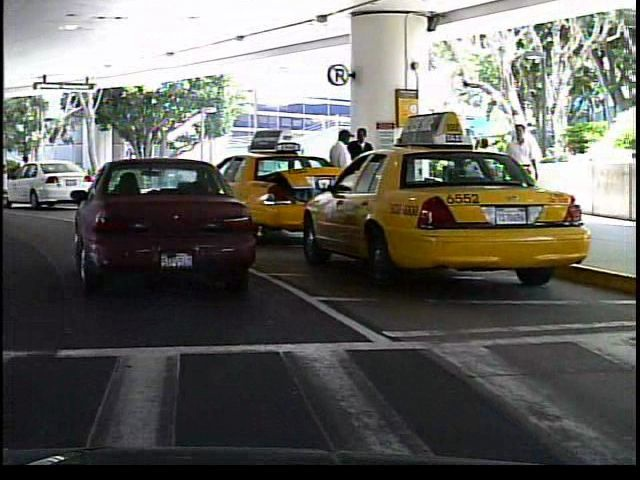person: (504, 118, 544, 227), (325, 126, 355, 224), (348, 126, 376, 218), (465, 131, 491, 206), (12, 150, 37, 194)
